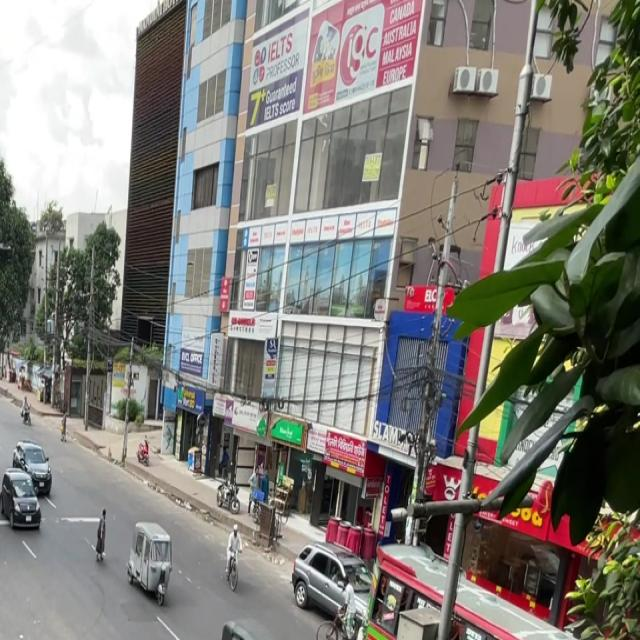bicycle: (220, 520, 248, 596)
car: (284, 544, 382, 640), (0, 467, 43, 536), (13, 441, 55, 494)
motorbike: (214, 473, 238, 514)
rickshaw: (124, 514, 182, 612), (207, 609, 297, 640)
